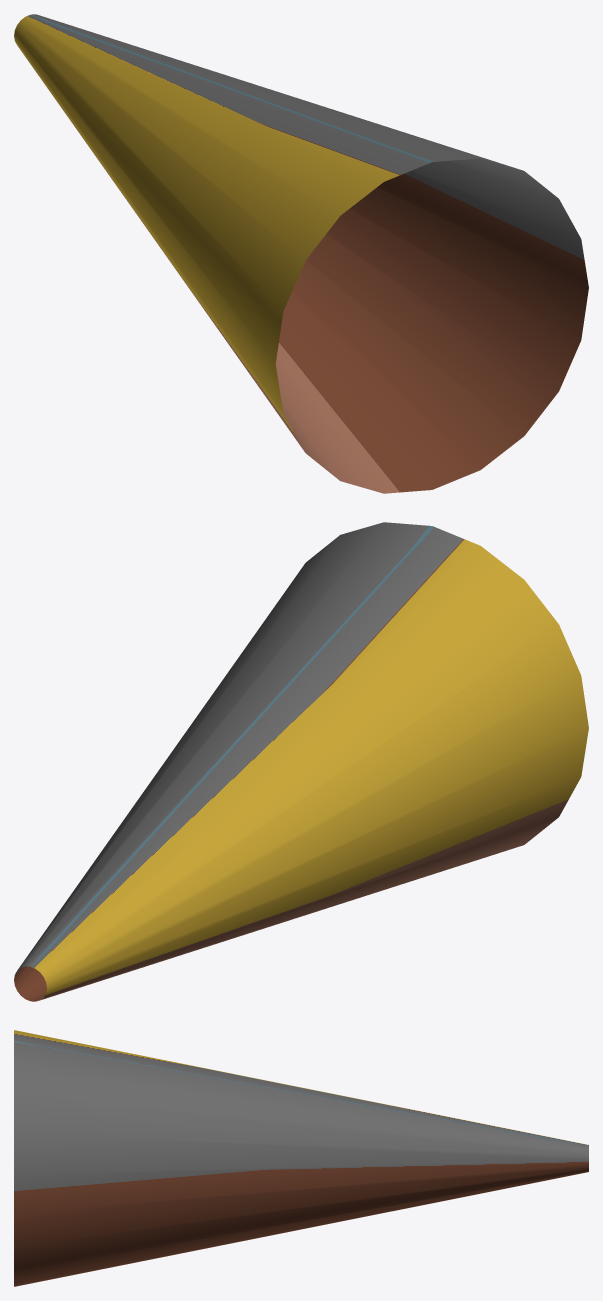
The model's file is TorchConeOfSight.fbx.
3 renders of one model, top to bottom at view 1: azimuth 30°, elevation 25°; view 2: azimuth 150°, elevation 25°; view 3: azimuth 270°, elevation 25°, orthographic. The views are drawn at different scales.
Visible parts, largest first — view 1: polySurface46; view 2: polySurface46; view 3: polySurface46.
Part boxes in pixels (bbox=[...]): polySurface46: bbox=[14, 14, 588, 493]; polySurface46: bbox=[14, 522, 588, 1001]; polySurface46: bbox=[14, 1030, 588, 1286].
Bounding box in the file's own units: 95.13 × 95.13 × 211.
